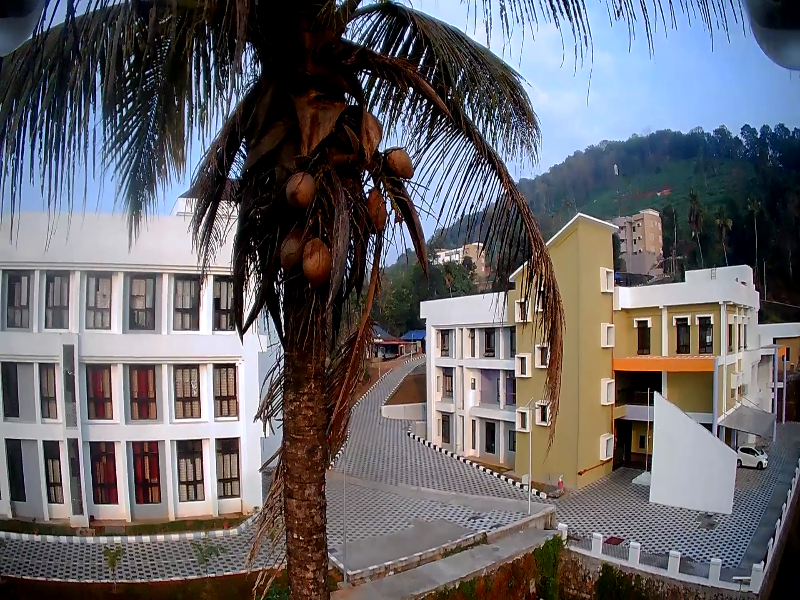coconut: (386, 148, 421, 187), (303, 235, 327, 280), (362, 191, 385, 228), (278, 229, 299, 267), (284, 173, 308, 206)
